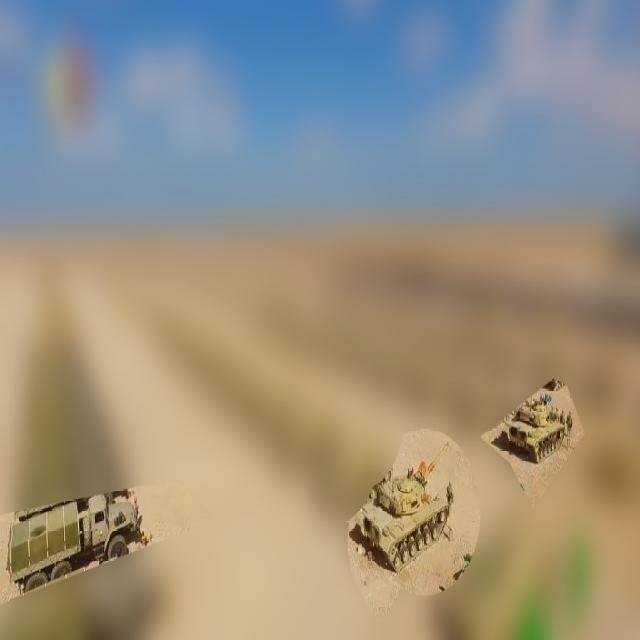tank: (351, 436, 455, 573), (499, 383, 573, 465)
